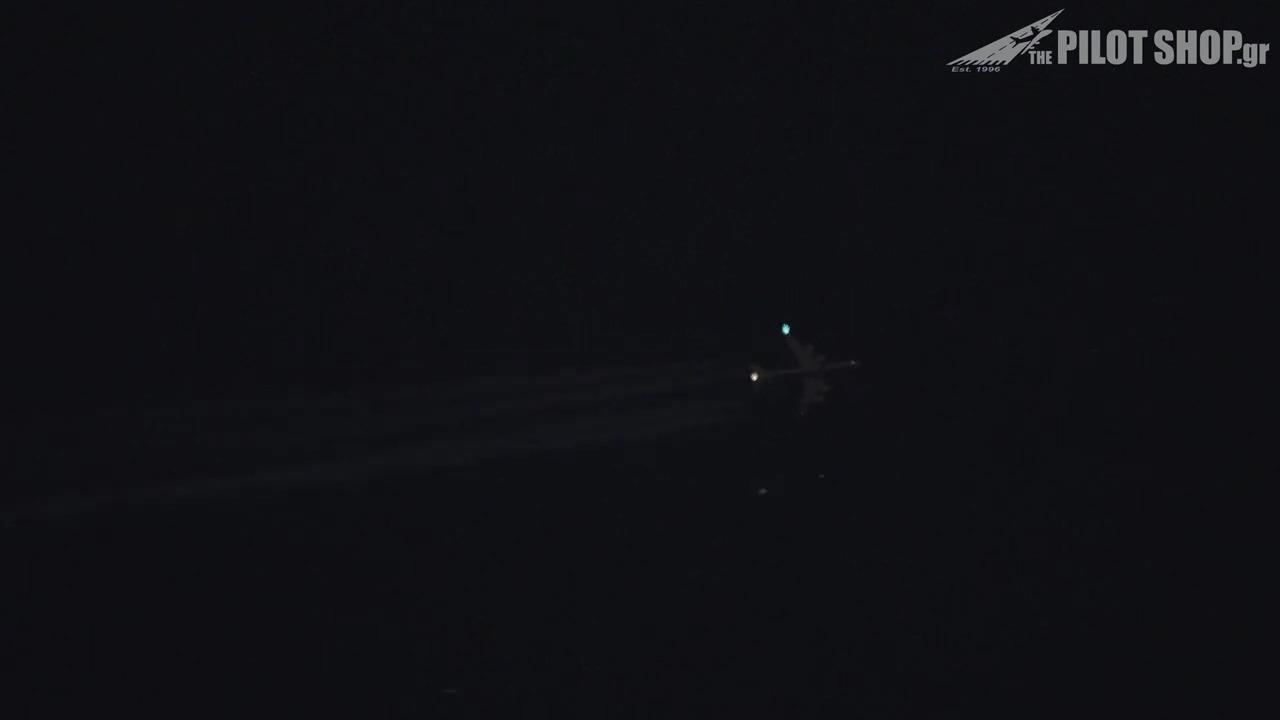Plane: (695, 309, 917, 403)
